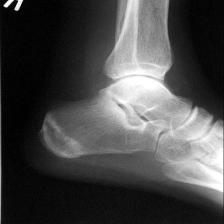hairline-fracture: (32, 0, 224, 214)
